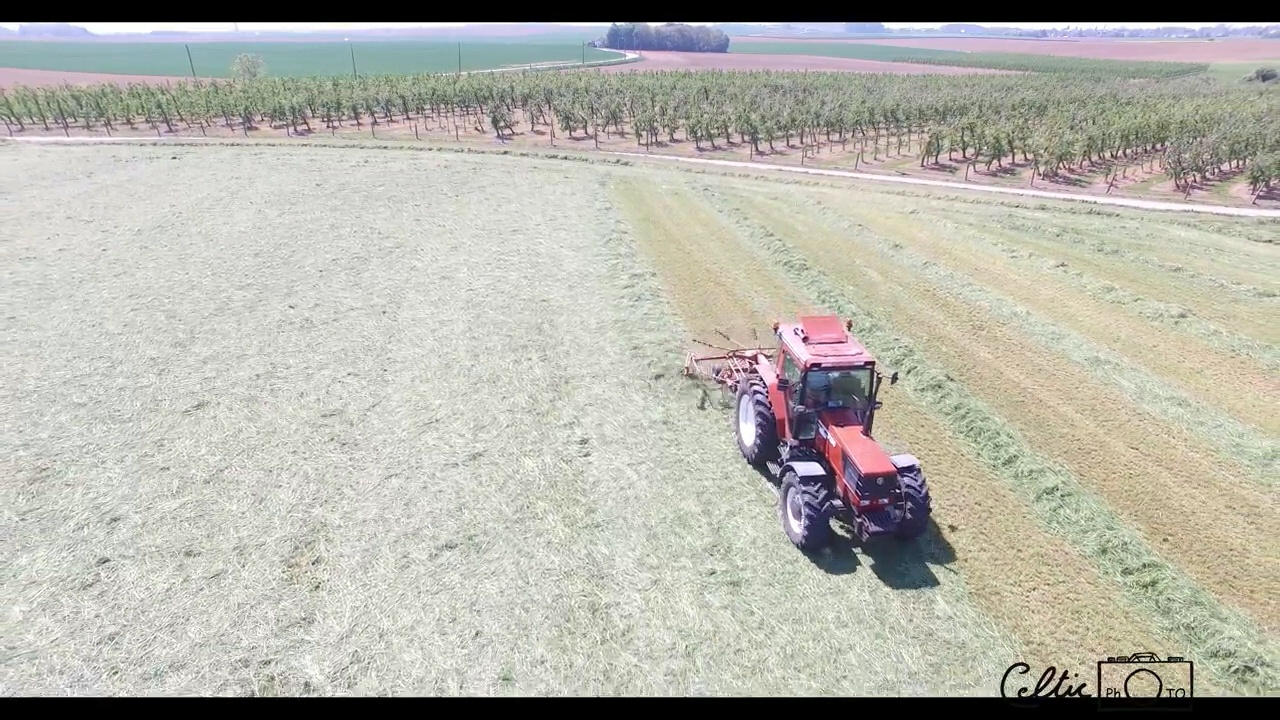traktor: (725, 310, 937, 556)
